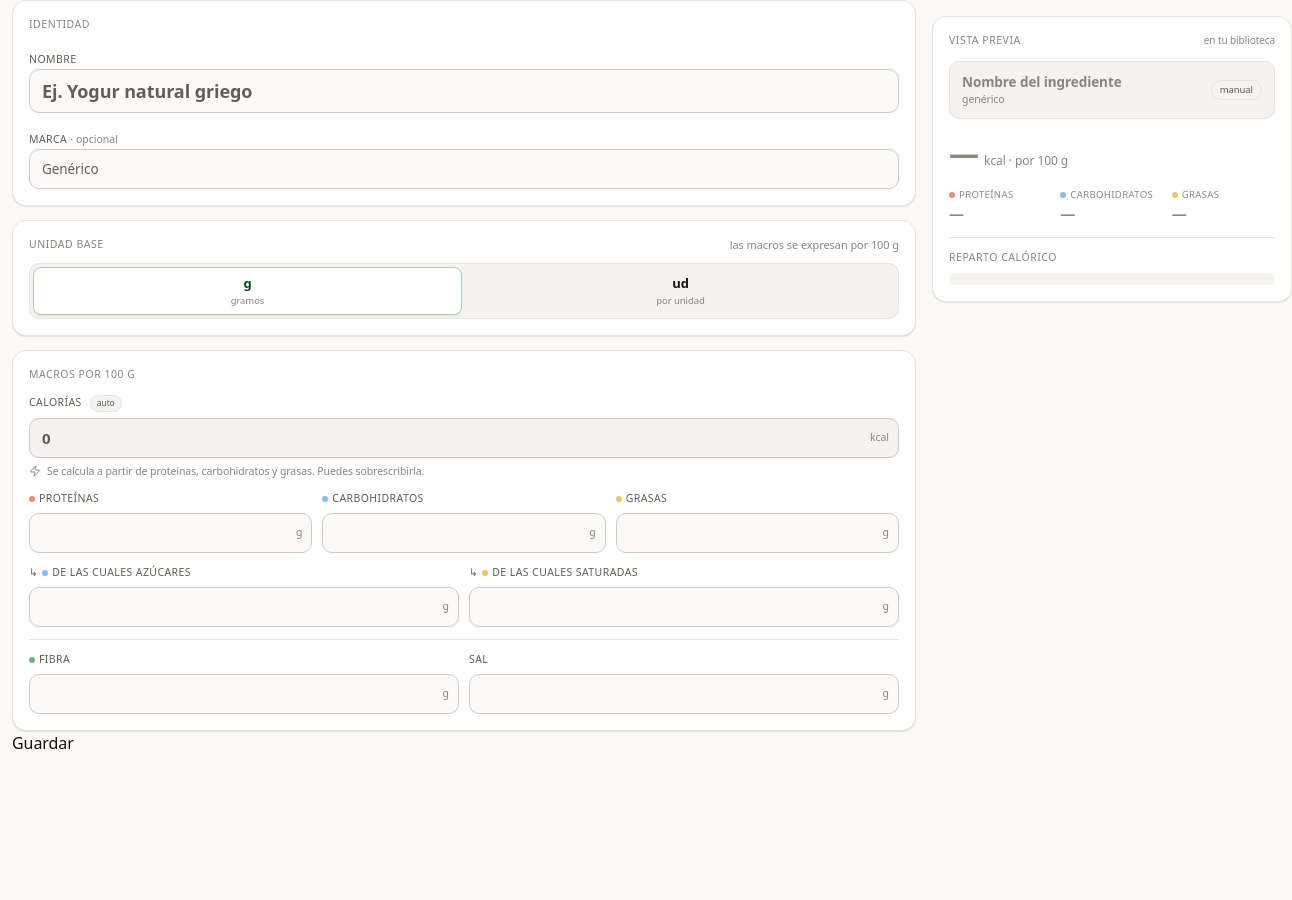
Test case: auto-kcal › derives kcal from protein/carbs/fat while you type, on a blank manual create
Expected: the field labelled "Calorías" holds "0", [29,418,899,458]
Expected: the text "auto" is shown, [90,395,122,412]
Type "10" into the field labelled "Proteínas".
click(171, 533); type("10")  # box [29,513,312,553]
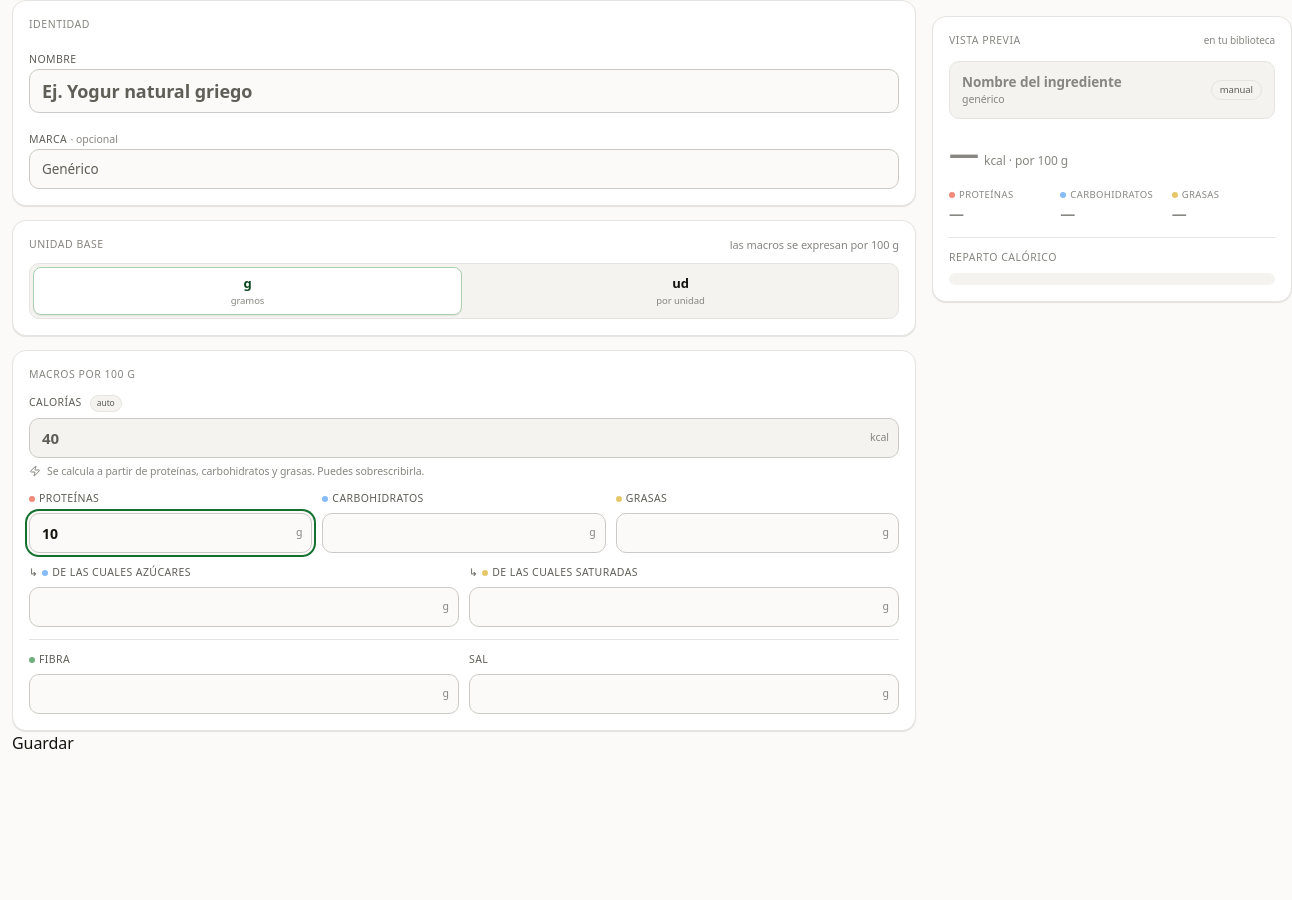
Expected: the field labelled "Calorías" holds "40", [29,418,899,458]
Type "20" into the field labelled "Carbohidratos".
click(464, 533); type("20")  # box [322,513,606,553]
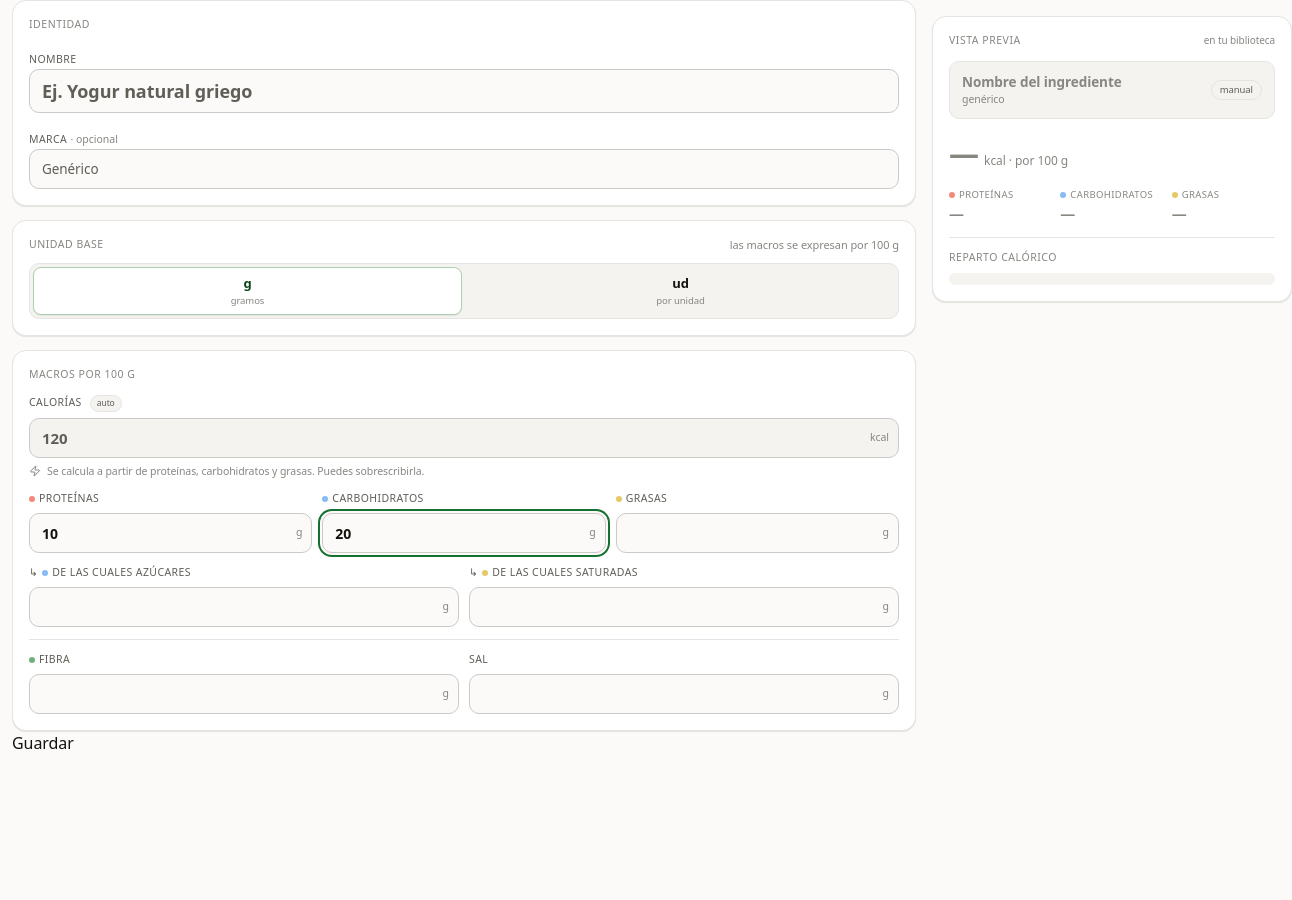
Expected: the field labelled "Calorías" holds "120", [29,418,899,458]
Type "5" into the field labelled "Grasas".
click(757, 533); type("5")  # box [616,513,899,553]
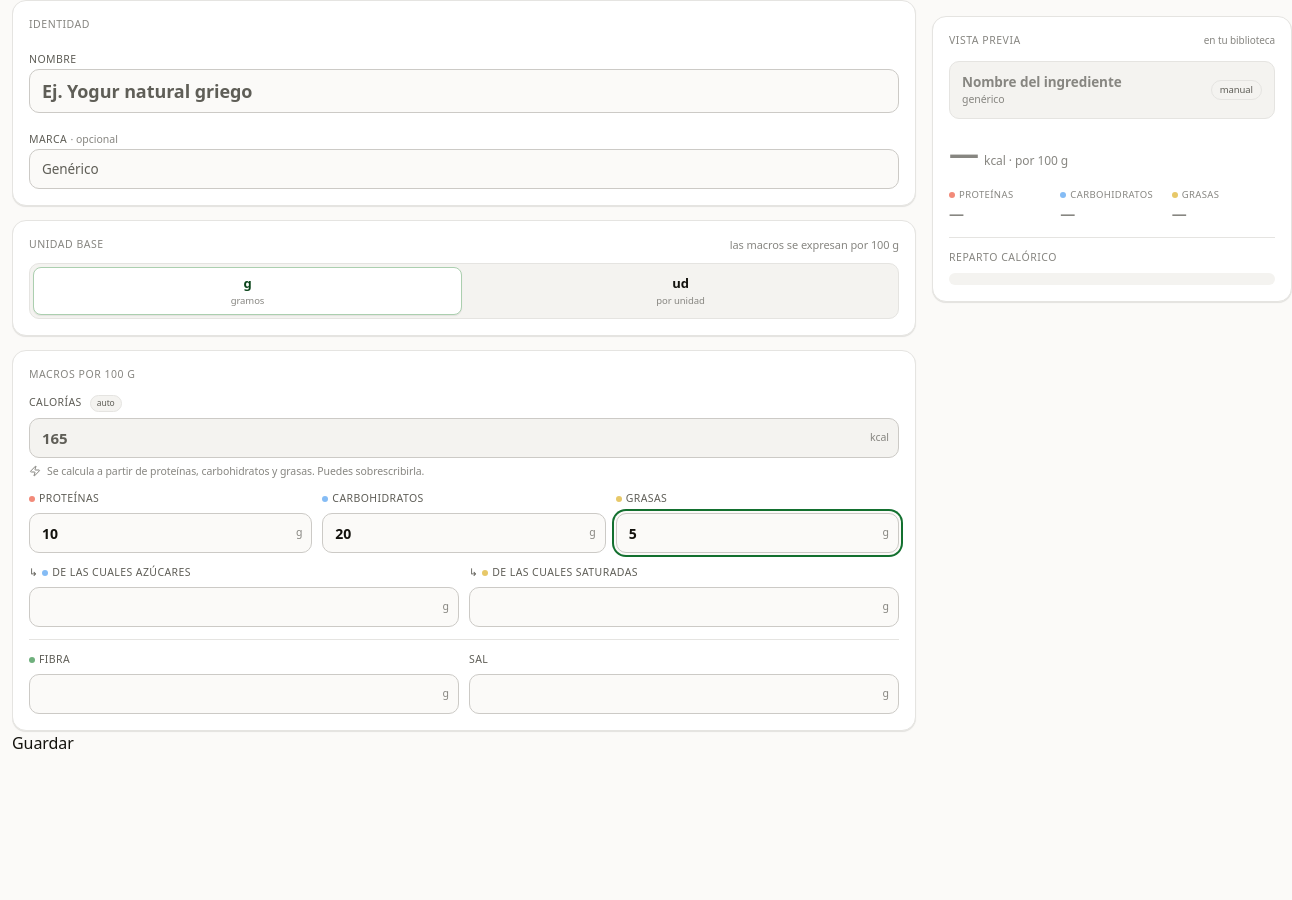
Expected: the text "auto" is shown, [90,395,122,412]
Expected: the field labelled "Calorías" holds "165", [29,418,899,458]
